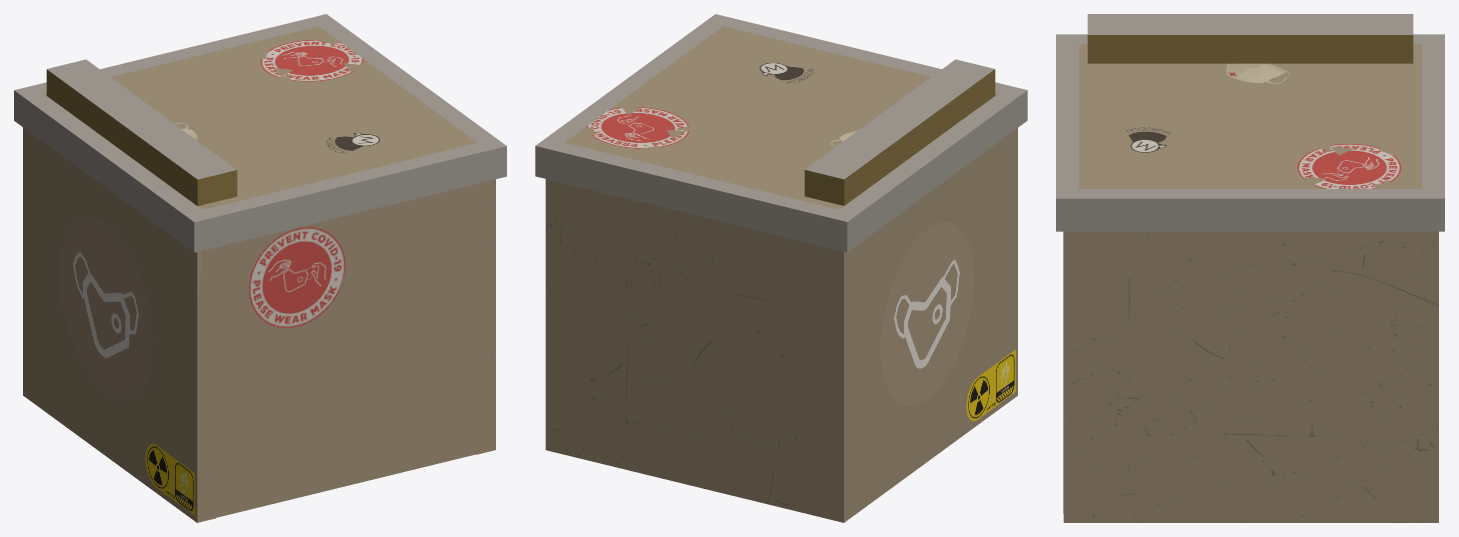
Rendered from Kotak_Test_Updated.fbx.
The picture shows the model from 3 angles, left to right: view 1: azimuth 30°, elevation 25°; view 2: azimuth 150°, elevation 25°; view 3: azimuth 270°, elevation 25°; orthographic projection. The views are drawn at different scales.
Visible parts, largest first — view 1: Box007, Box002, Box006, Box005; view 2: Box002, Box003, Box006, Box005; view 3: Box005, Box002.
Part boxes in pixels (x1,y1,x2,y2): Box007: [215, 183, 479, 517]; Box002: [14, 14, 506, 252]; Box006: [23, 127, 215, 522]; Box005: [476, 179, 495, 454]; Box002: [535, 14, 1027, 252]; Box003: [565, 183, 824, 517]; Box006: [824, 128, 1017, 522]; Box005: [545, 179, 564, 454]; Box005: [1063, 231, 1438, 522]; Box002: [1056, 14, 1444, 231].
Bounding box in the file's own units: 105 × 107 × 105.
9 materials, 7 textured.
